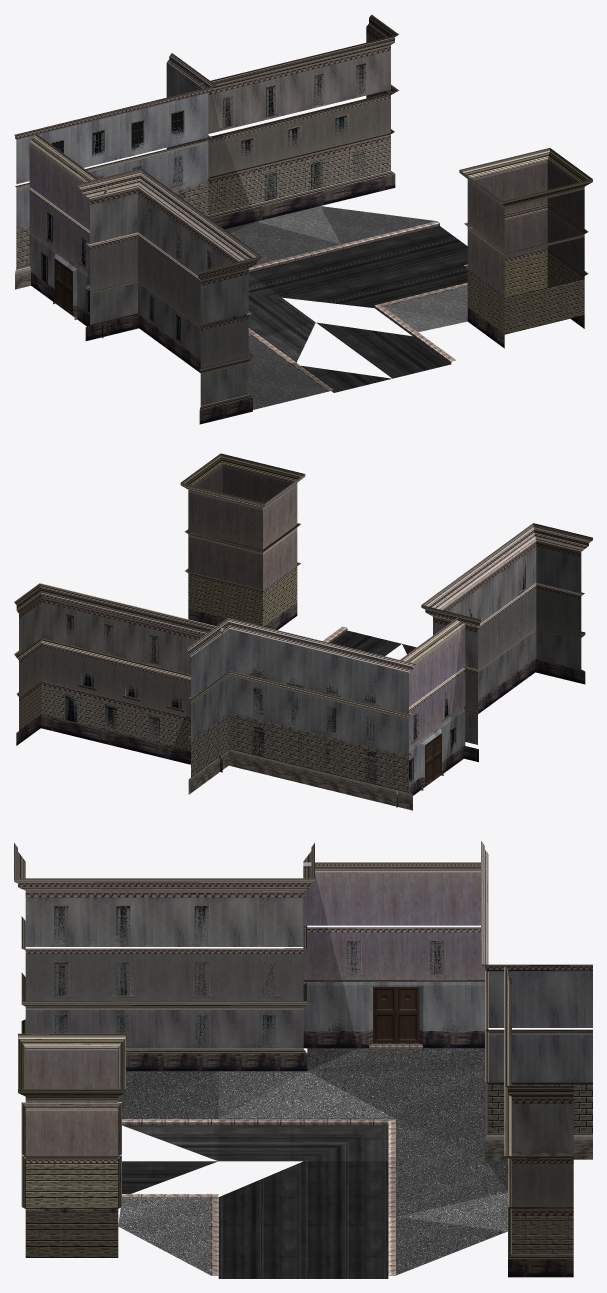
File: primary_145.glb
The picture shows the model from 3 angles, top to bottom: view 1: azimuth 30°, elevation 25°; view 2: azimuth 150°, elevation 25°; view 3: azimuth 270°, elevation 25°; orthographic projection. The views are drawn at different scales.
Parts seen in each view (by area): view 1: Object; view 2: Object; view 3: Object.
Boxes of the visible parts, x1=… form: Object: x1=14, y1=14, x2=592, y2=424; Object: x1=14, y1=453, x2=592, y2=810; Object: x1=14, y1=841, x2=592, y2=1278.
Bounding box in the file's own units: 30.93 × 11.84 × 31.1.
267 materials, 267 textured.
